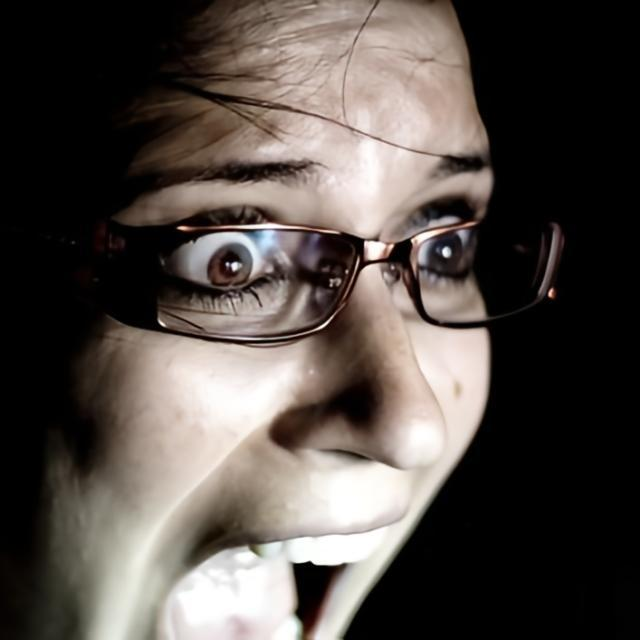fear: (0, 2, 495, 640)
